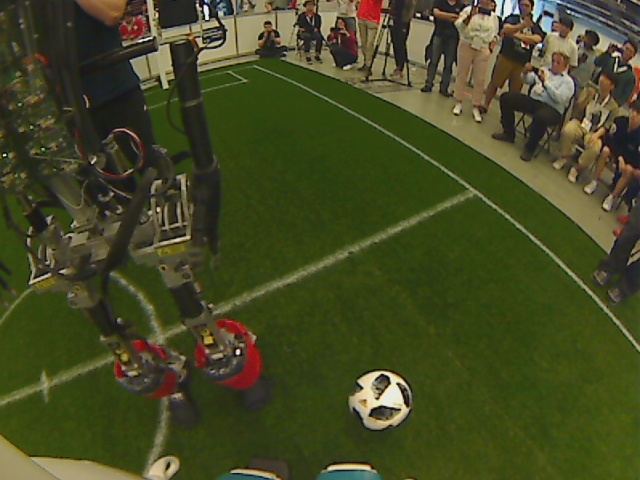ball: (347, 368, 413, 432)
